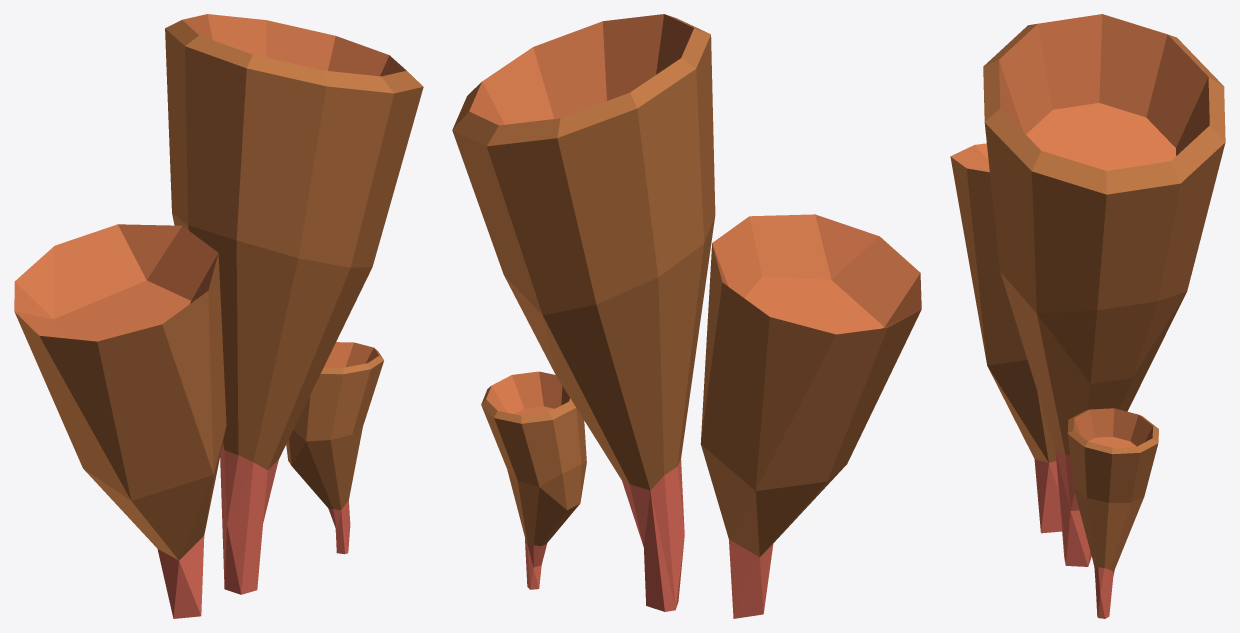
The model's file is SM_Mushroom_05.glb.
The picture shows the model from 3 angles, left to right: view 1: azimuth 30°, elevation 25°; view 2: azimuth 150°, elevation 25°; view 3: azimuth 270°, elevation 25°; orthographic projection. The views are drawn at different scales.
Parts seen in each view (by area): view 1: SM_Mushroom_05; view 2: SM_Mushroom_05; view 3: SM_Mushroom_05.
Boxes of the visible parts, x1,y1,x2,y2 form: SM_Mushroom_05: (14,14,423,618); SM_Mushroom_05: (452,14,921,618); SM_Mushroom_05: (950,14,1225,618).
Bounding box in the file's own units: 0.1514 × 0.1975 × 0.0921.
1 material, 1 textured.
